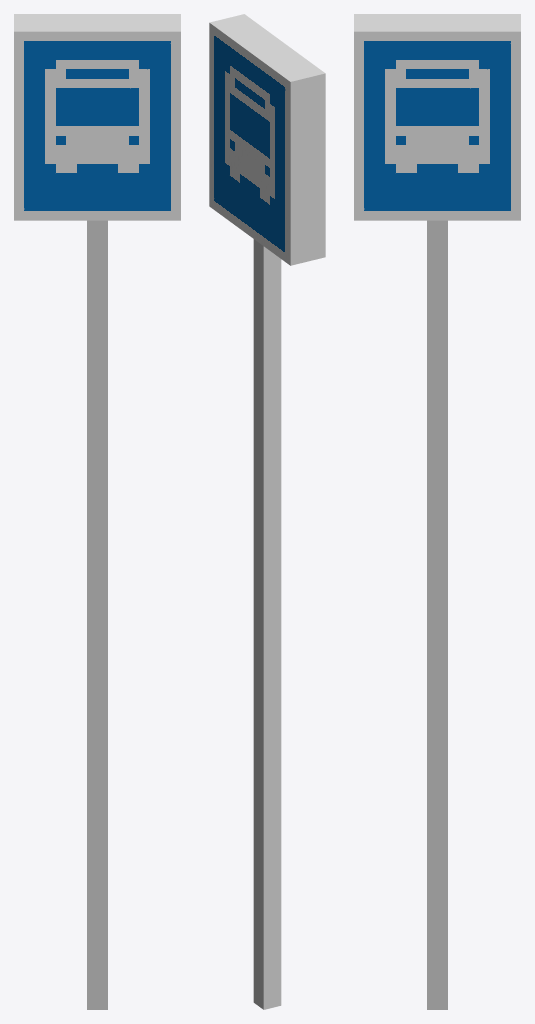
File: Busstop.fbx
3 renders of one model, left to right at view 1: azimuth 90°, elevation 25°; view 2: azimuth 210°, elevation 25°; view 3: azimuth 270°, elevation 25°, orthographic. The views are drawn at different scales.
Parts seen in each view (by area): view 1: Busstop; view 2: Busstop; view 3: Busstop.
Part boxes in pixels (<box>): Busstop: <box>14,14,180,1009</box>; Busstop: <box>209,14,325,1009</box>; Busstop: <box>354,14,520,1009</box>.
Bounding box in the file's own units: 20 × 520 × 80.
